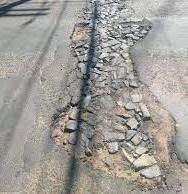pothole: (56, 95, 177, 184), (74, 0, 132, 72), (74, 74, 149, 94)
